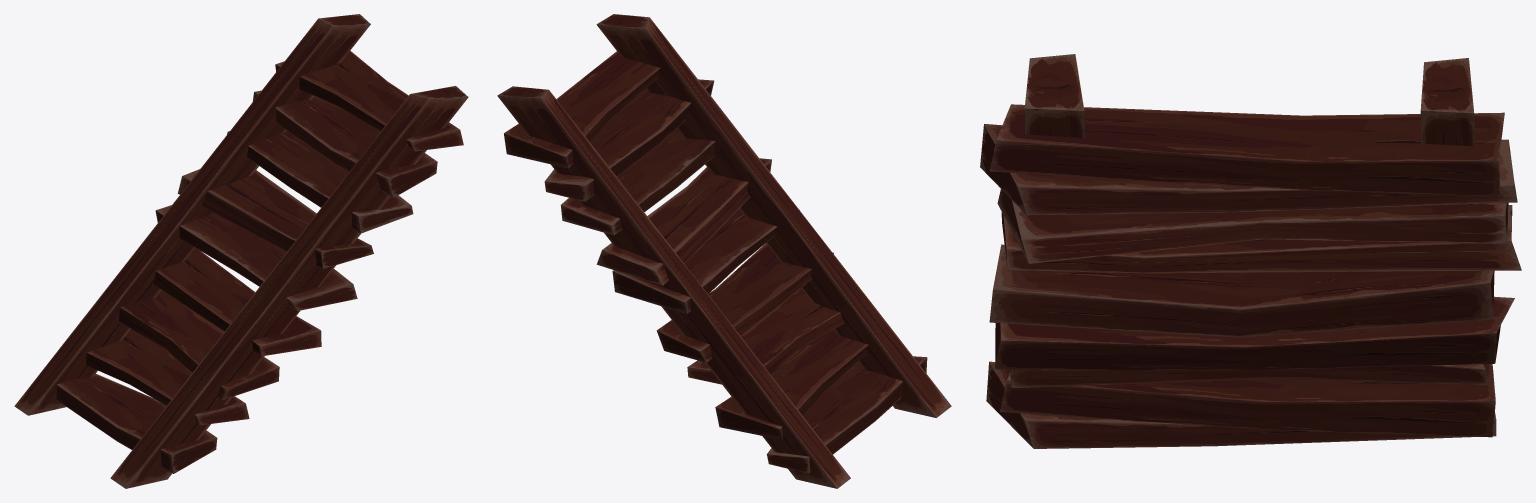
File: SM_PROP_stairs_wood_01.fbx
3 renders of one model, left to right at view 1: azimuth 30°, elevation 25°; view 2: azimuth 150°, elevation 25°; view 3: azimuth 270°, elevation 25°, orthographic. The views are drawn at different scales.
Parts seen in each view (by area): view 1: SM_PROP_stairs_wood_01; view 2: SM_PROP_stairs_wood_01; view 3: SM_PROP_stairs_wood_01.
Part boxes in pixels (x1=…): SM_PROP_stairs_wood_01: x1=14, y1=14, x2=468, y2=488; SM_PROP_stairs_wood_01: x1=497, y1=14, x2=951, y2=488; SM_PROP_stairs_wood_01: x1=980, y1=54, x2=1521, y2=448.
Bounding box in the file's own units: 412 × 361 × 281.
